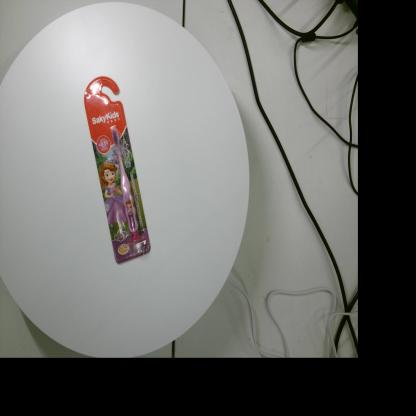Personal Hygiene: (84, 76, 151, 264)
